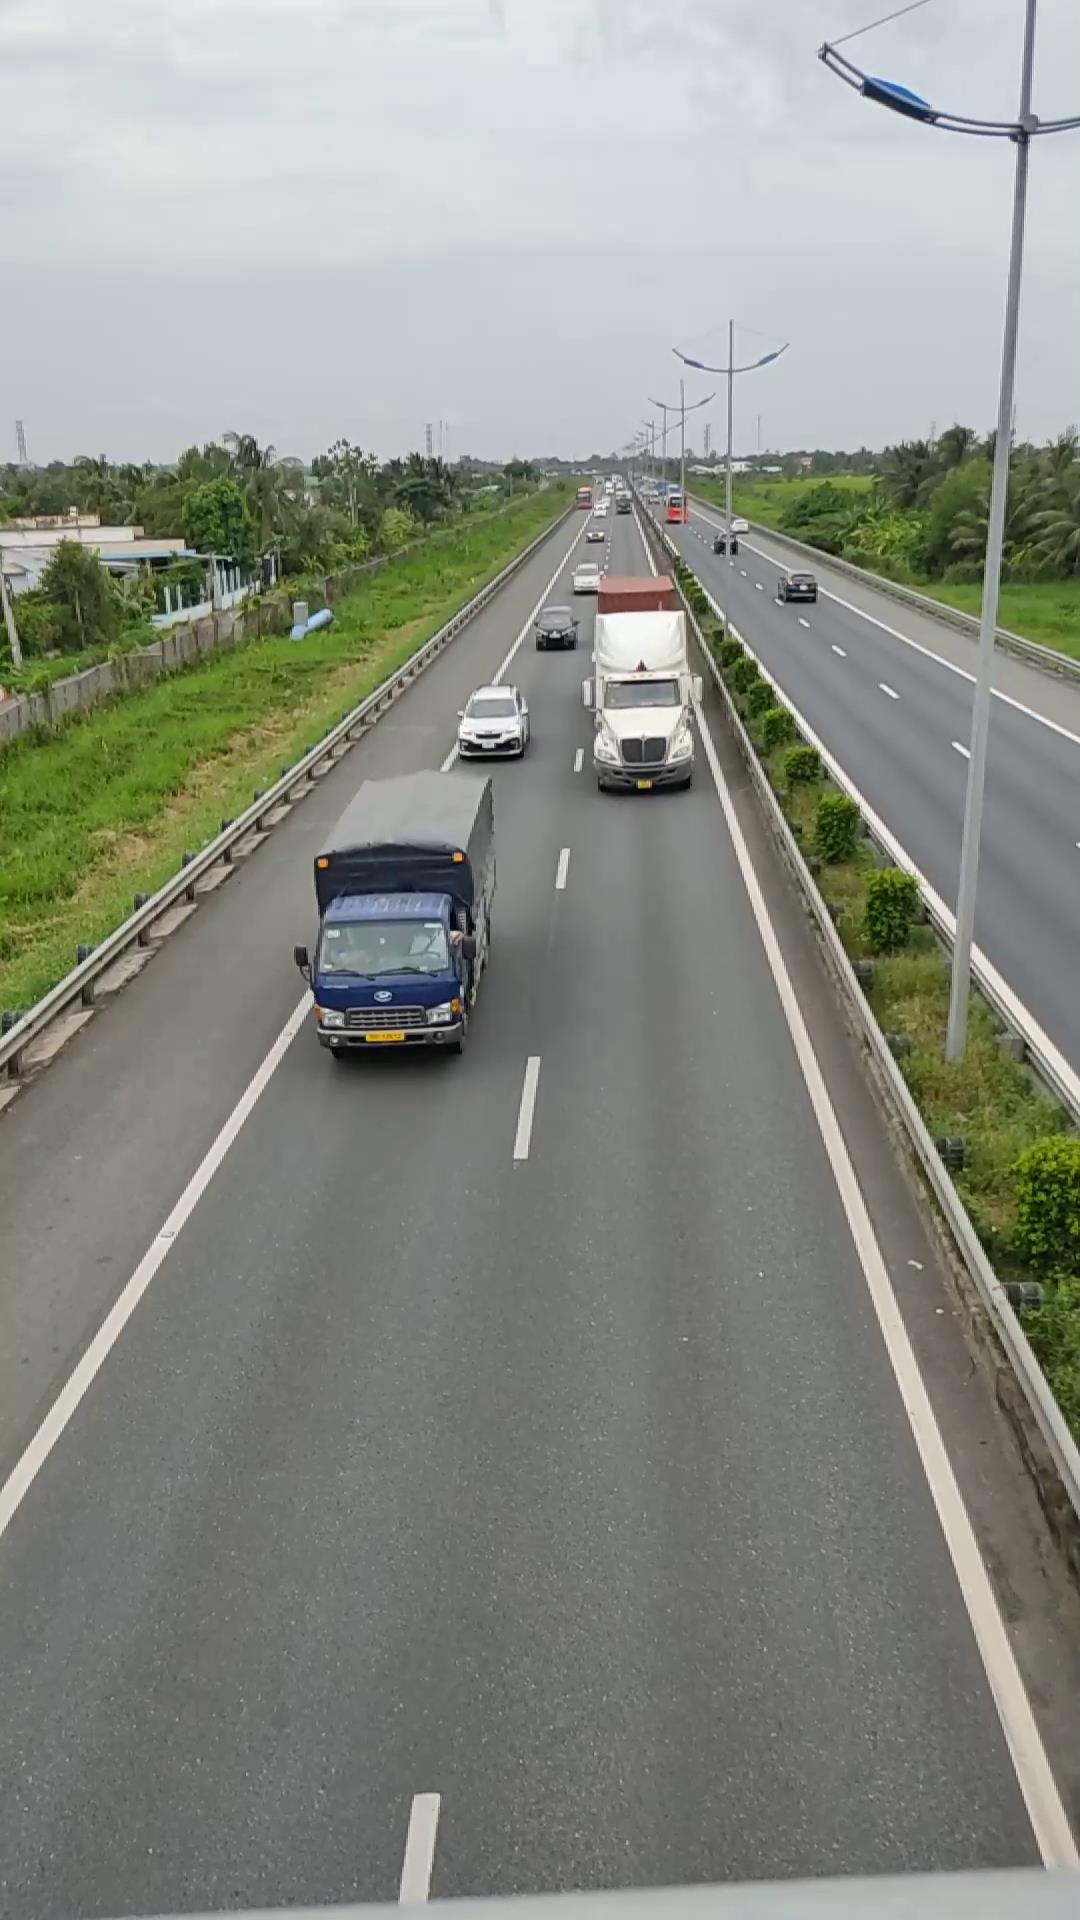car: (455, 684, 531, 760)
container: (579, 570, 705, 789)
truck: (302, 764, 498, 1058)
